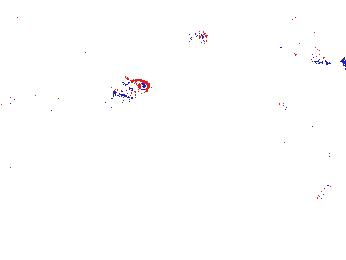X-ray fish: (28, 120, 44, 154)
glassfish: (317, 169, 346, 208)
red belly glassfish: (108, 76, 148, 99), (189, 26, 209, 46)
redtail glassfish: (271, 37, 331, 66), (275, 93, 321, 120), (1, 90, 66, 108)
